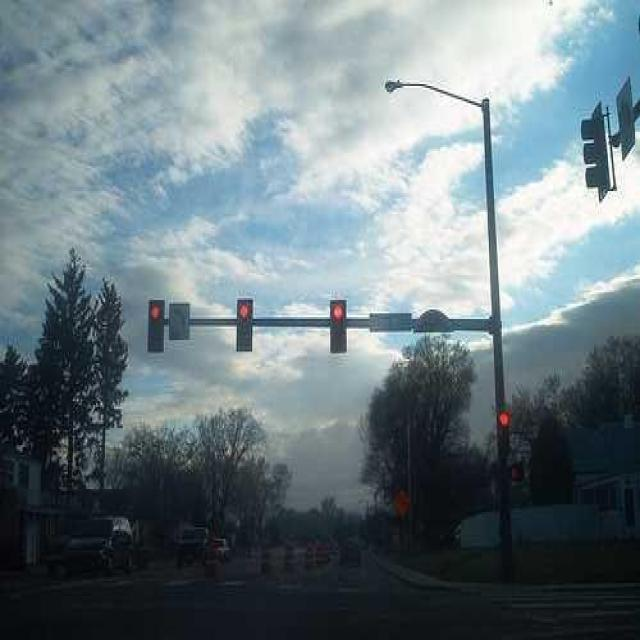Traffic Light -Red-: (328, 298, 348, 353), (146, 300, 165, 353), (236, 298, 254, 352), (497, 407, 513, 458)
